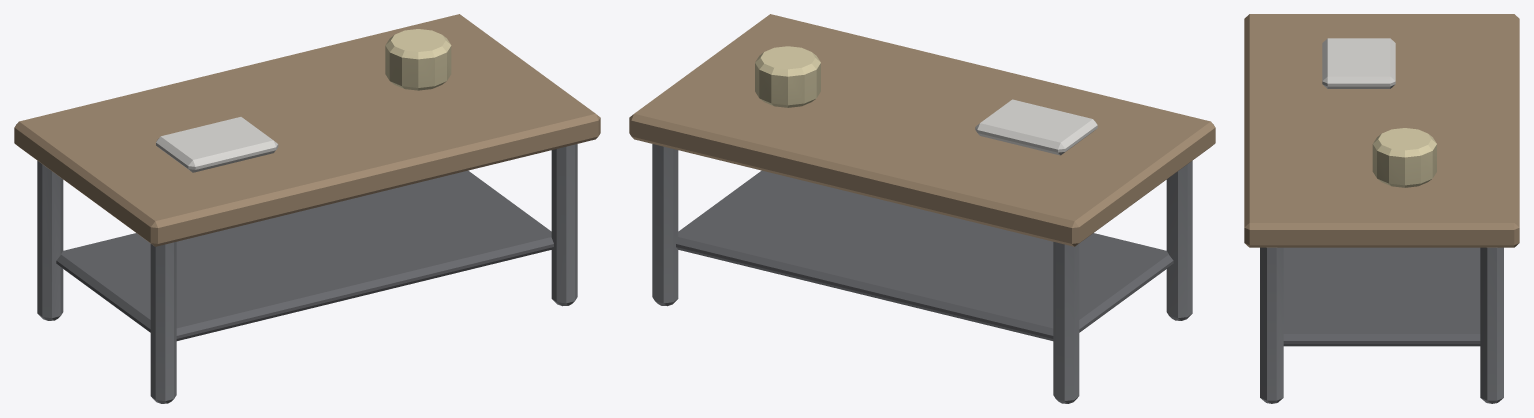
File: furn_coffee_table__walnut.glb
3 renders of one model, left to right at view 1: azimuth 30°, elevation 25°; view 2: azimuth 150°, elevation 25°; view 3: azimuth 270°, elevation 25°, orthographic. The views are drawn at different scales.
Size of the model in its own units: 1.1 by 0.54 by 0.6.
